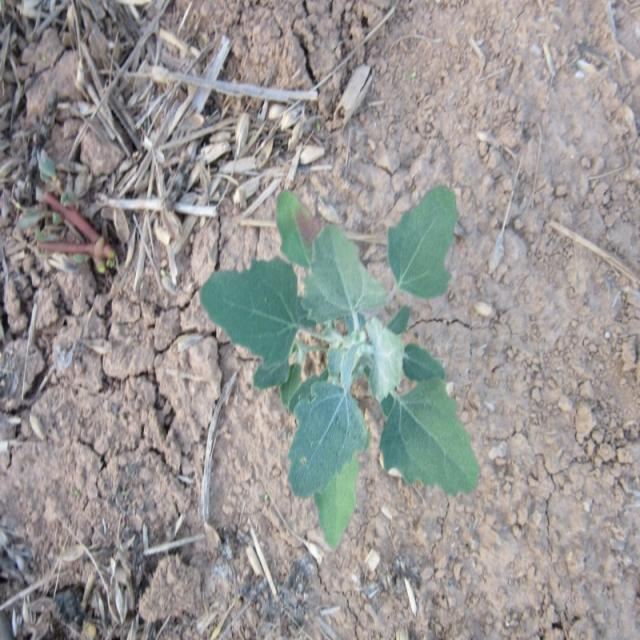ca: (200, 182, 487, 549)
